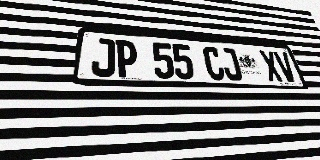5: (152, 42, 176, 79), (171, 44, 195, 79)
C: (202, 46, 226, 80)
J: (91, 38, 115, 77), (219, 47, 244, 81)
P: (116, 39, 138, 78)
V: (273, 51, 299, 82)
X: (259, 50, 284, 82)
